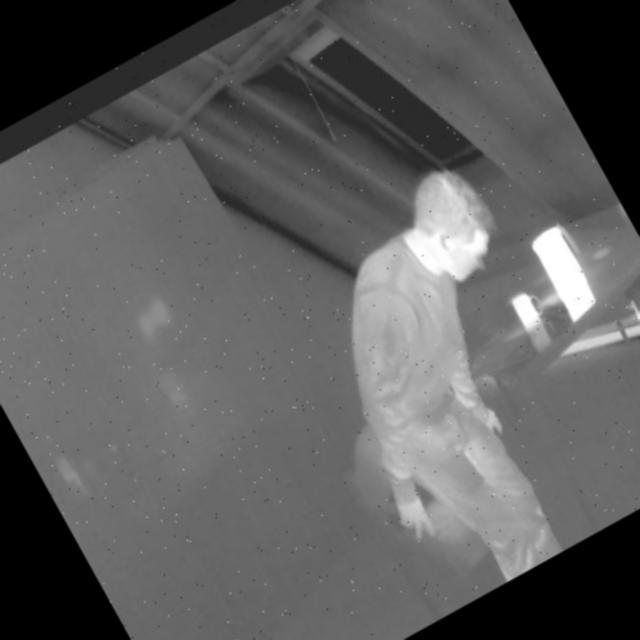person: (246, 141, 640, 615)
